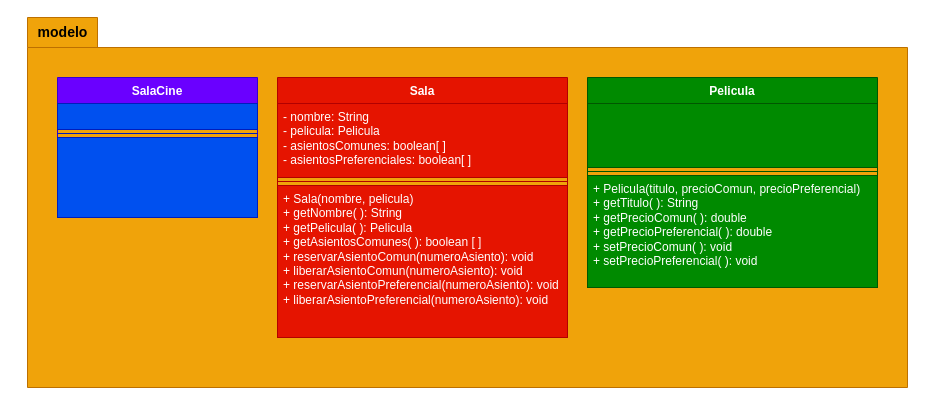
Some shapes in this 925 by 405 pixel diagram are drawn without their labels. The box of each missing label's shape, as (x1, y1, x2, y2) in pixels:
+ SalaCine( ) + agregarSala(sala: Sala): void + getSalas( ): List<Sala>: (56, 136, 258, 218)
- salas: List<Sala>: (56, 102, 258, 130)
- titulo: String - precioComun: double - precioPreferencial: double: (586, 102, 878, 168)
